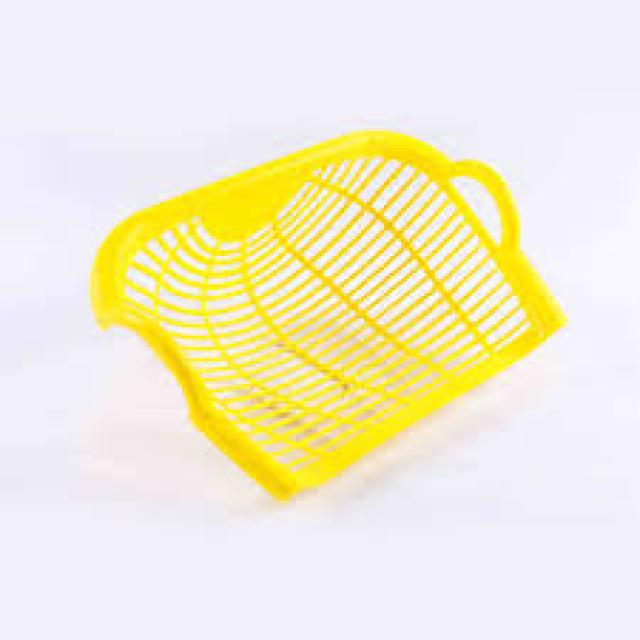basket: (61, 45, 589, 537)
